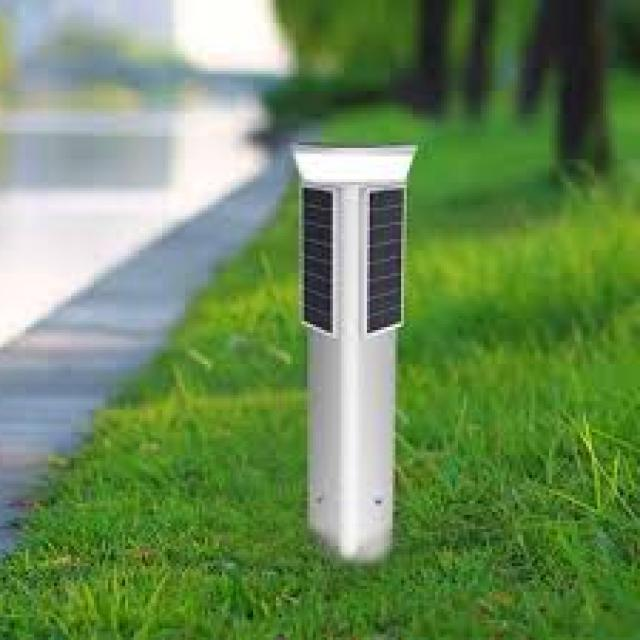bollard: (276, 126, 428, 576)
